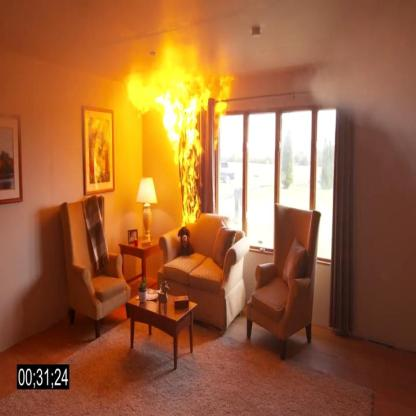fire: (120, 47, 235, 226)
